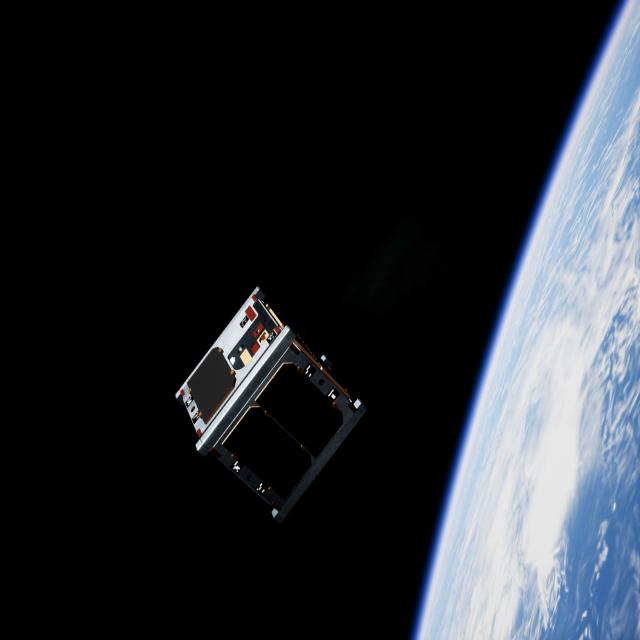medium_debris: (168, 277, 368, 528)
